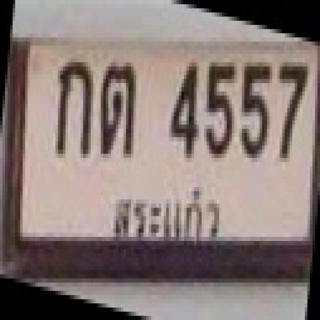A01: (54, 56, 96, 158)
A21: (97, 56, 143, 160)
N04: (164, 58, 202, 161)
N05: (202, 57, 240, 161), (240, 57, 274, 160)
N07: (273, 59, 309, 165)
P55: (108, 181, 224, 241)
